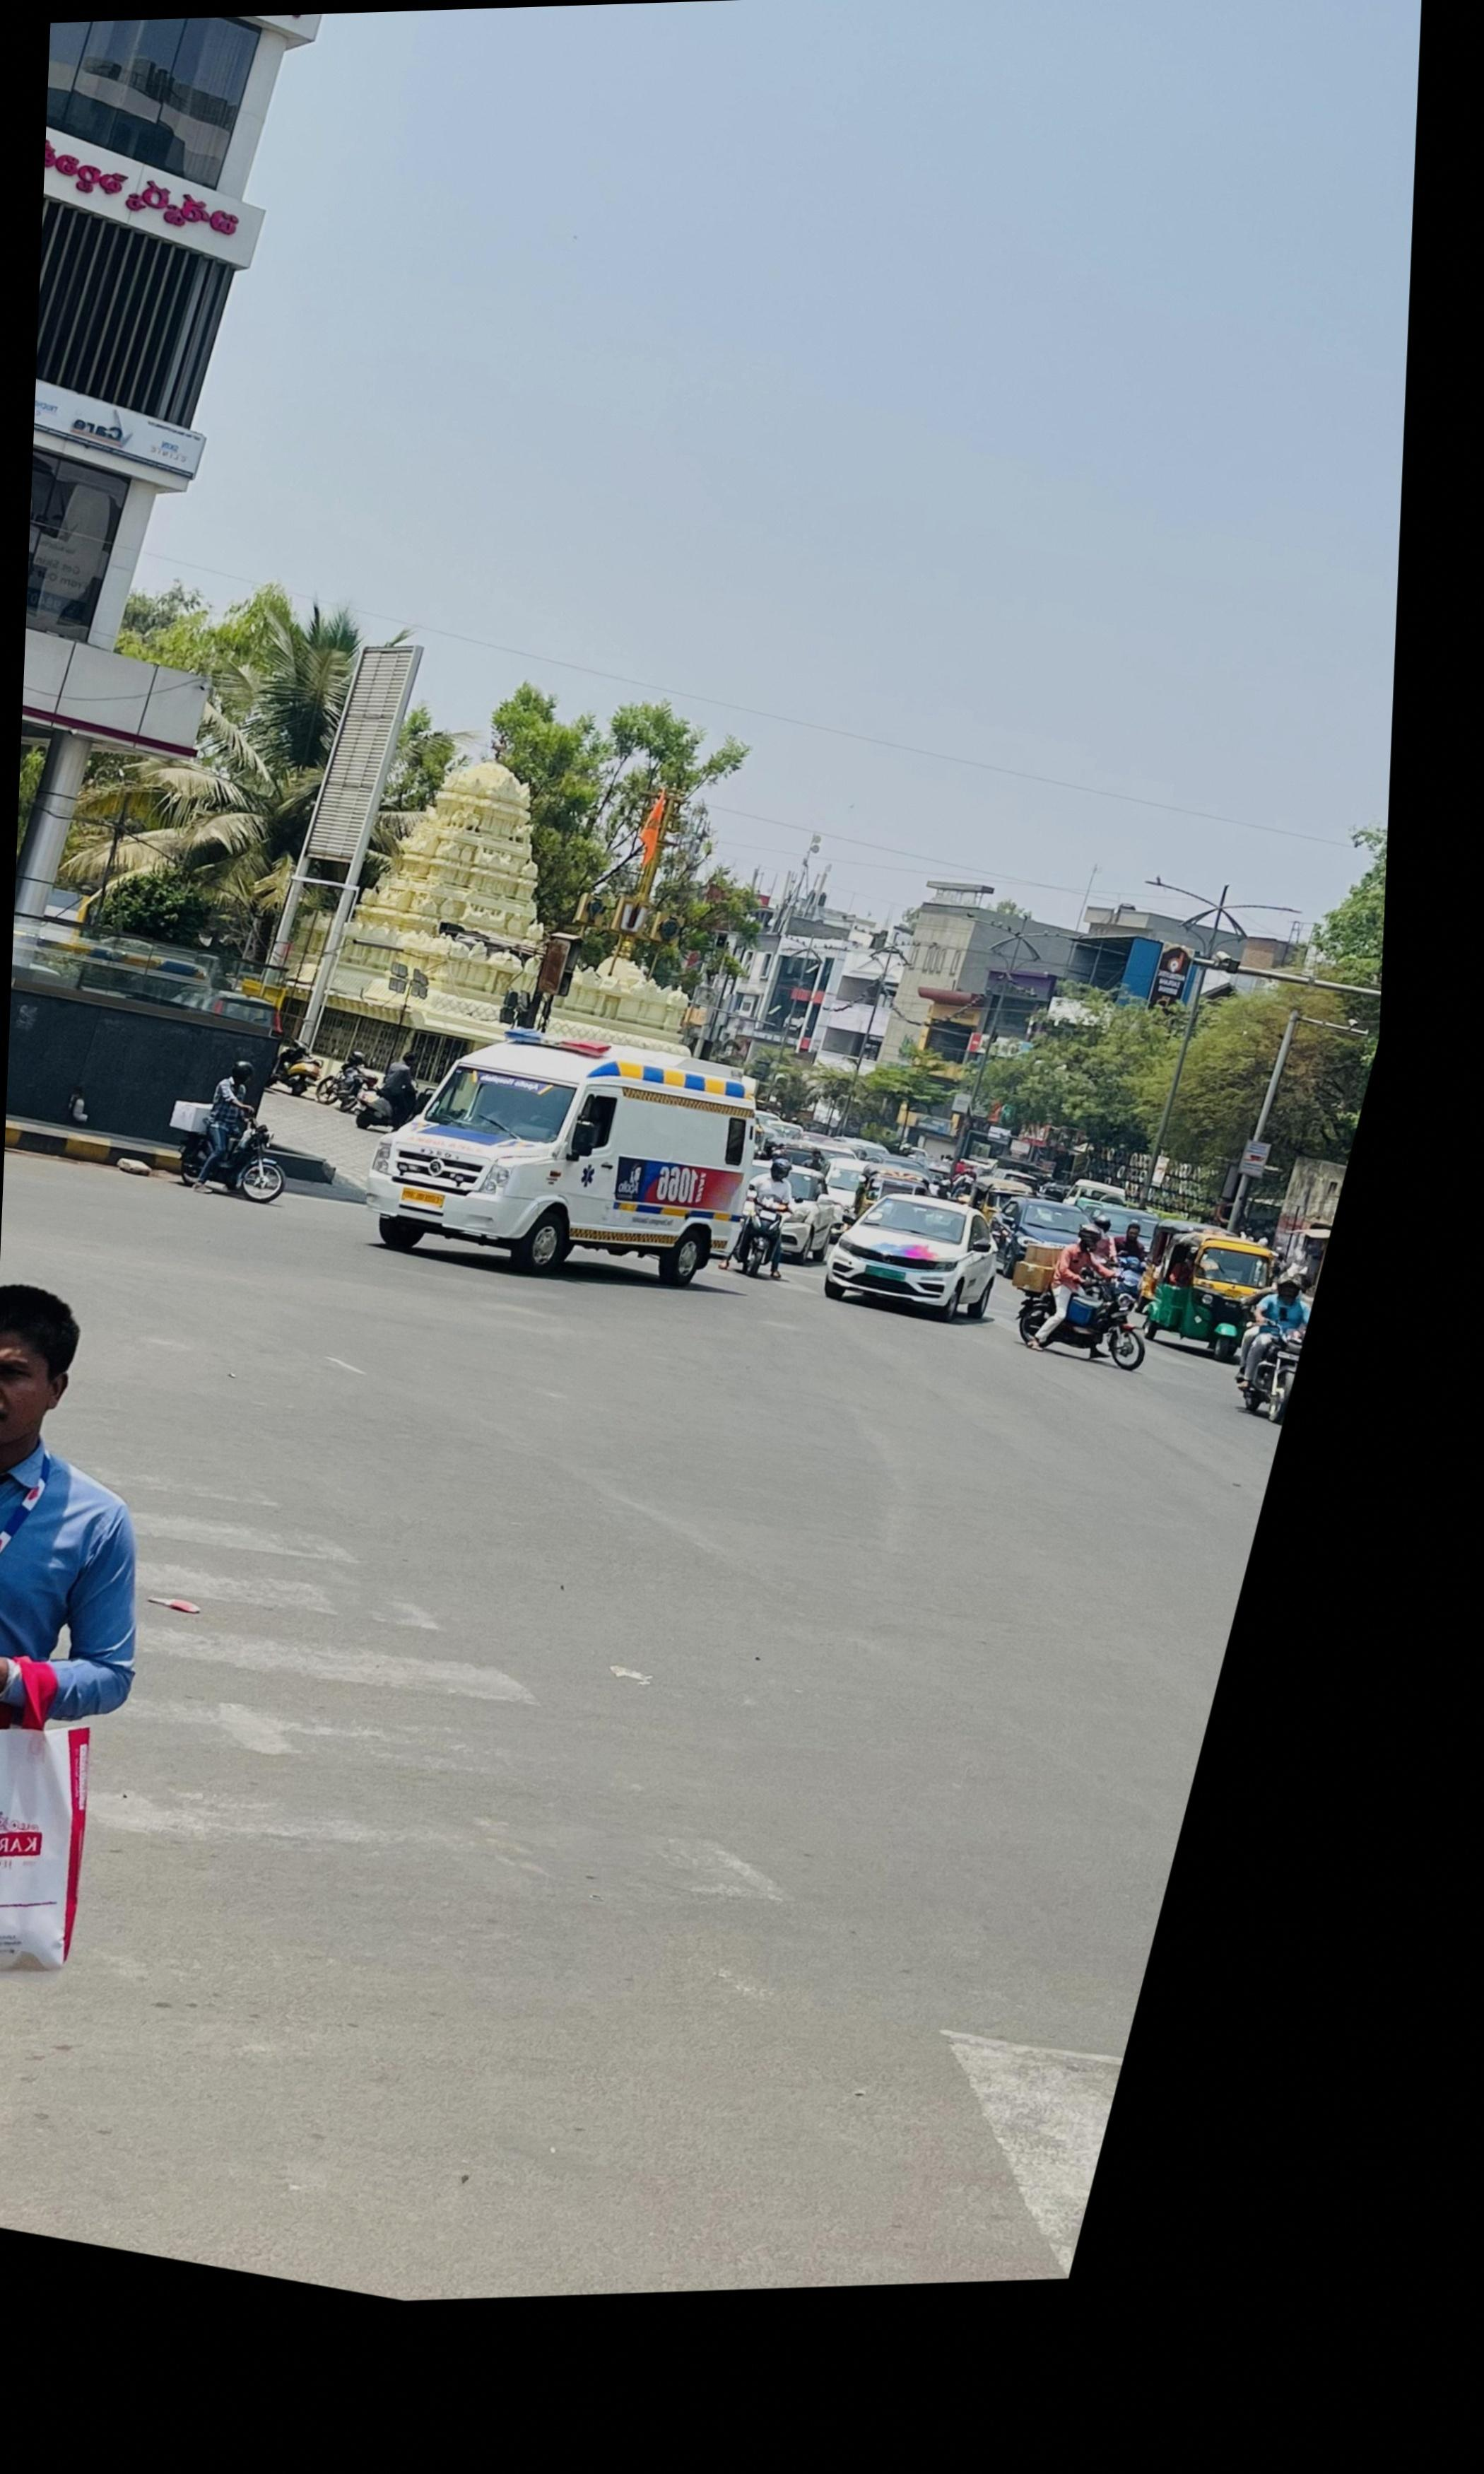ambulance: (387, 1036, 768, 1286)
